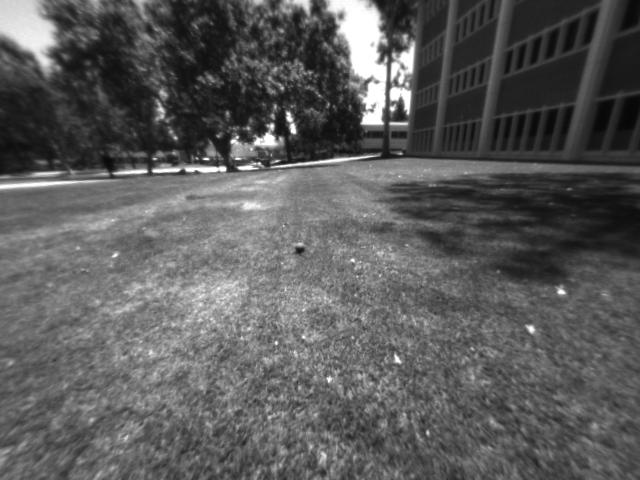dogtoy: (286, 234, 316, 257)
